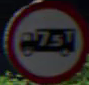Heavy Vehicles: (6, 9, 83, 72)
